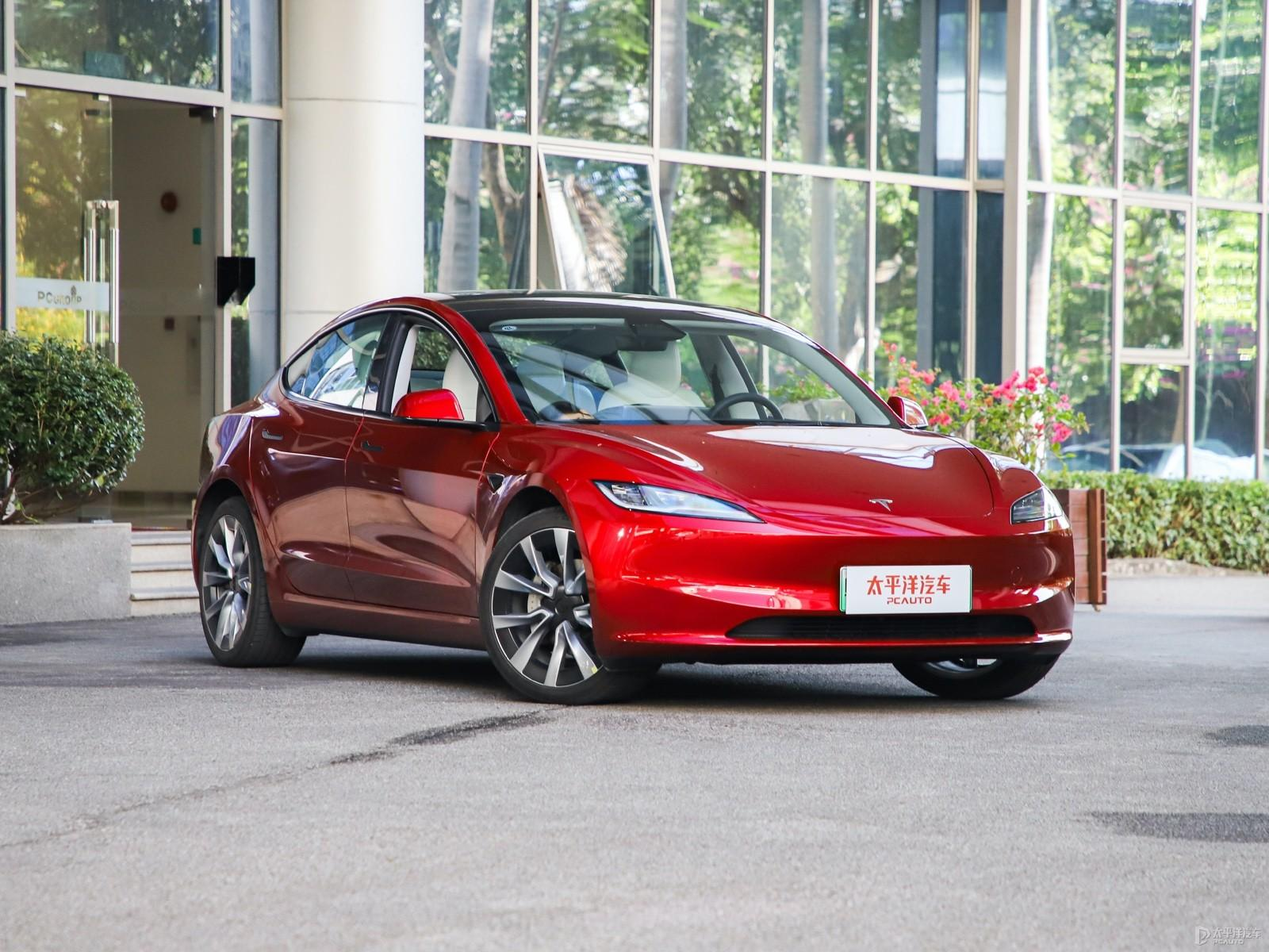Tesla: (869, 497, 895, 515)
